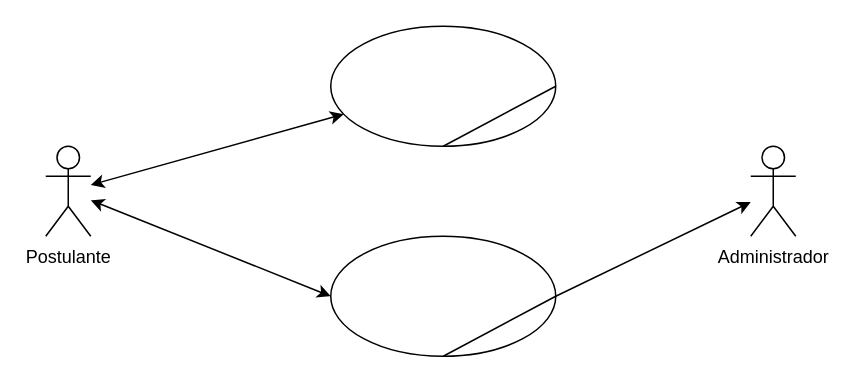
The diagram is 855 pixels wide and 384 high, and some of its shapes have lost their labels. The box of each missing label's shape, as (x1, y1, x2, y2) in pixels:
atender solicitud: (329, 25, 556, 146)
realizar entrevista: (329, 235, 556, 356)
